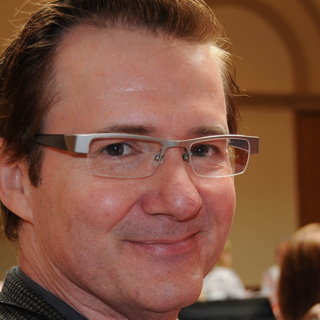eye: (96, 138, 143, 164), (184, 141, 221, 162)
